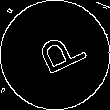P_SW: (24, 28, 86, 82)
